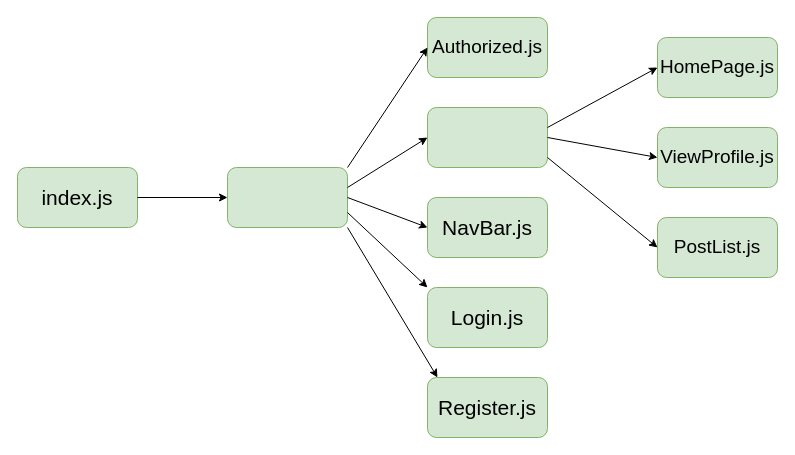
The diagram is 795 pixels wide and 455 high, and some of its shapes have lost their labels. The box of each missing label's shape, as (x1, y1, x2, y2) in pixels:
Application Views.js: (426, 106, 548, 168)
TooMuch.js: (226, 166, 348, 228)
